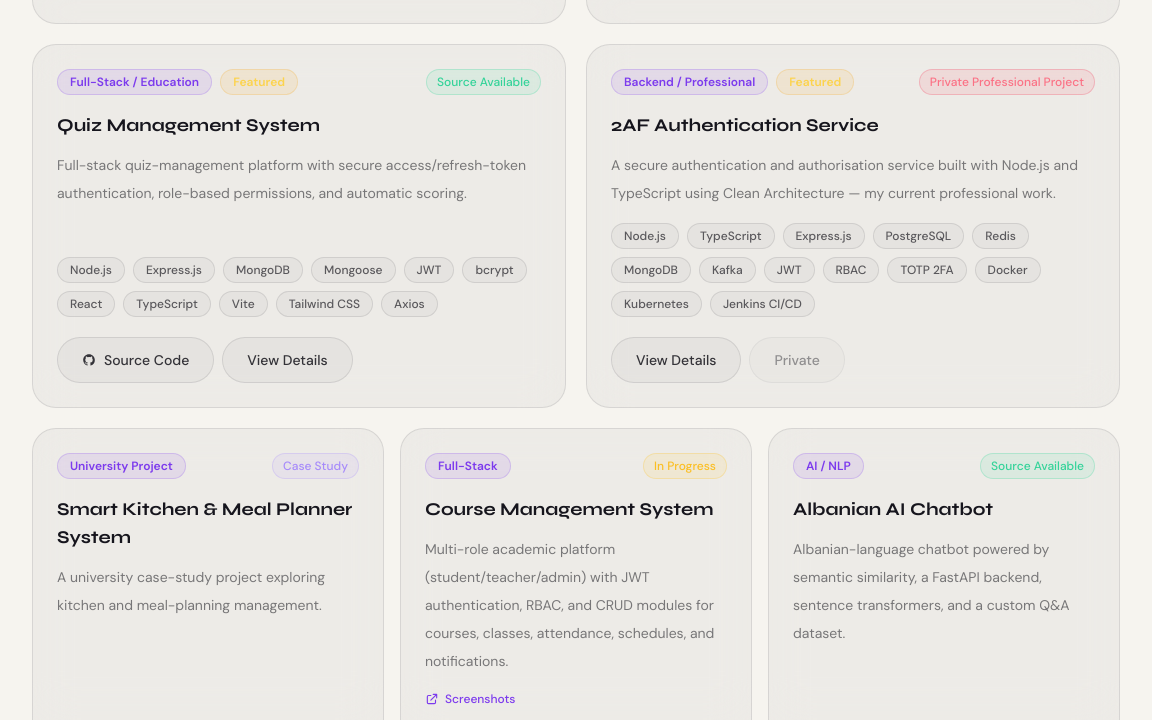
Scenario: Projects › opens an accessible modal with focus trap and closes on Escape
(page scrolled)
Click the button "View Details" below "Kubernetes" at (676, 360), box [611,337,741,383]
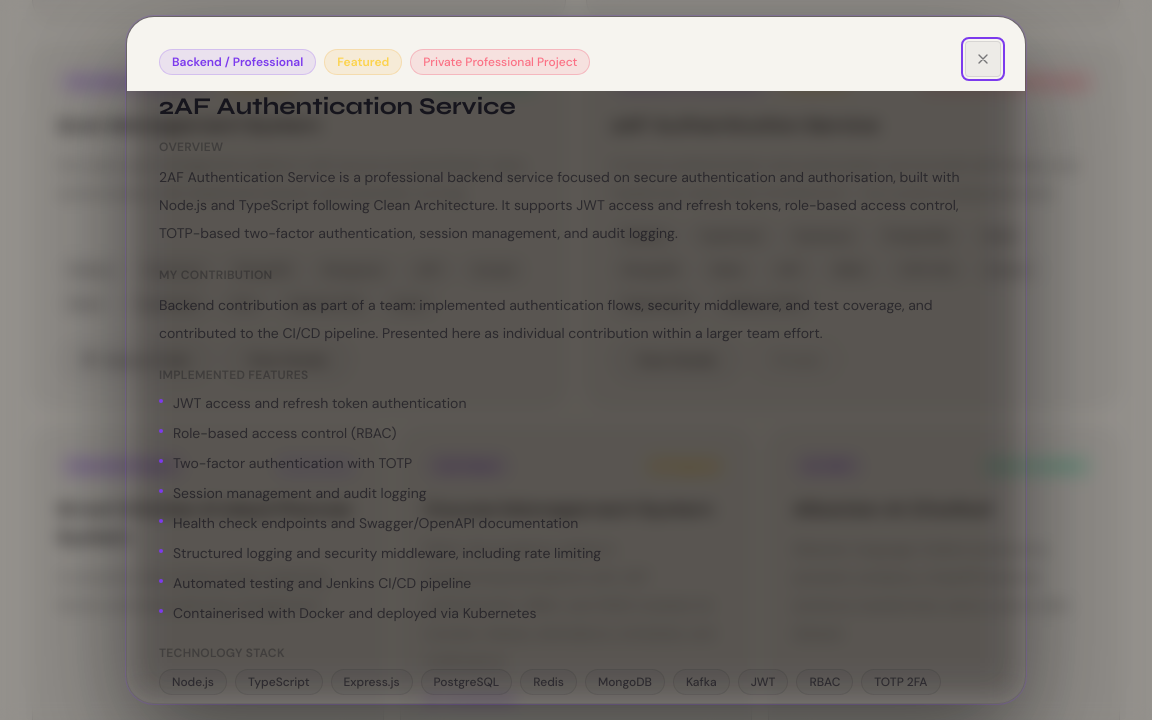
Press Escape
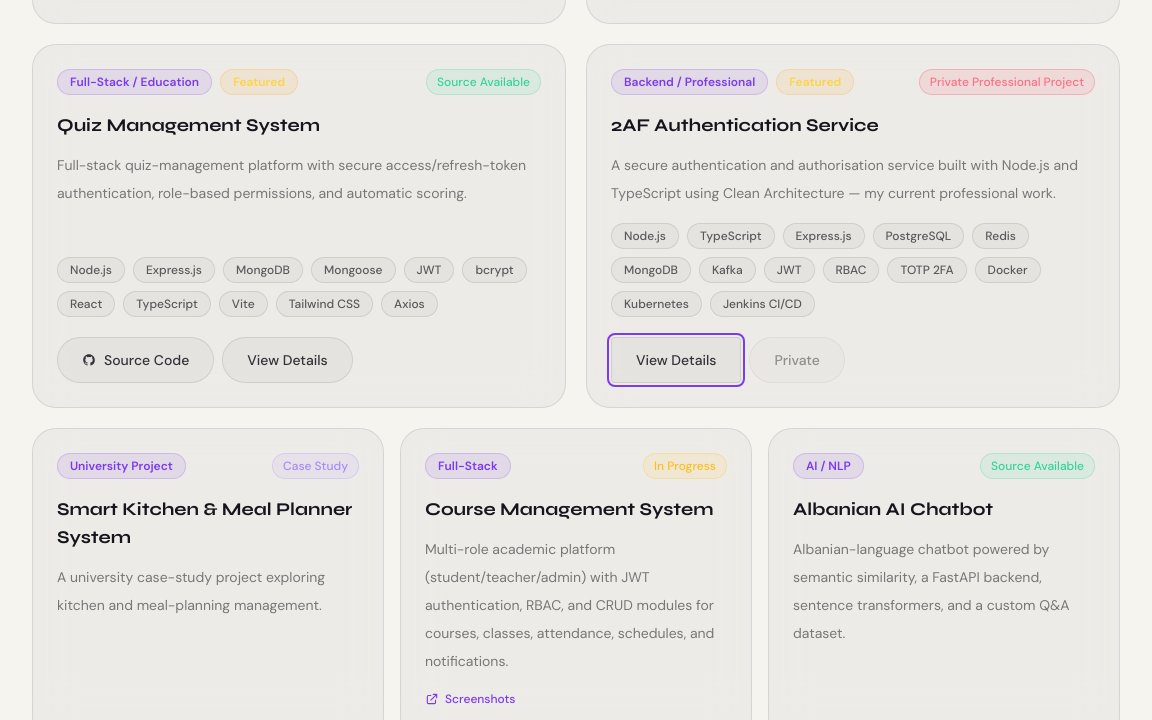
Now the dialog is gone
